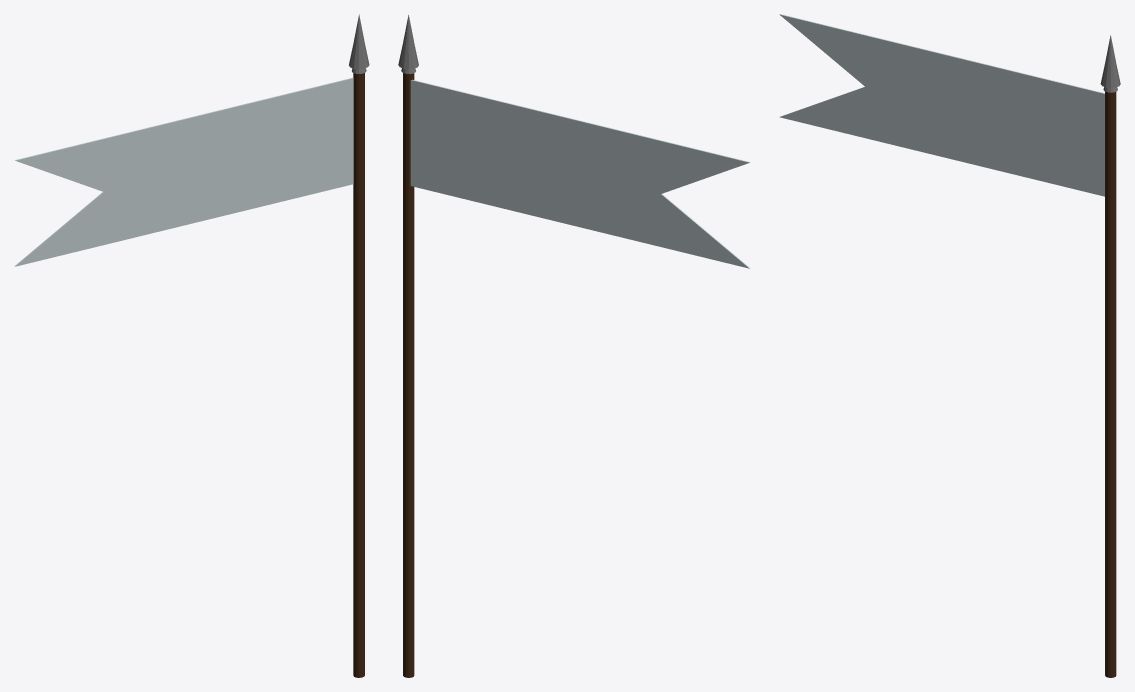
The model's file is bandeira branca.fbx.
The picture shows the model from 3 angles, left to right: view 1: azimuth 30°, elevation 25°; view 2: azimuth 150°, elevation 25°; view 3: azimuth 330°, elevation 25°; orthographic projection. The views are drawn at different scales.
Parts seen in each view (by area): view 1: bandeira_branca; view 2: bandeira_branca; view 3: bandeira_branca.
Part boxes in pixels (<box>): bandeira_branca: <box>14,14,369,677</box>; bandeira_branca: <box>398,15,750,677</box>; bandeira_branca: <box>779,14,1120,677</box>.
Size of the model in its own units: 224 by 402 by 11.01.
